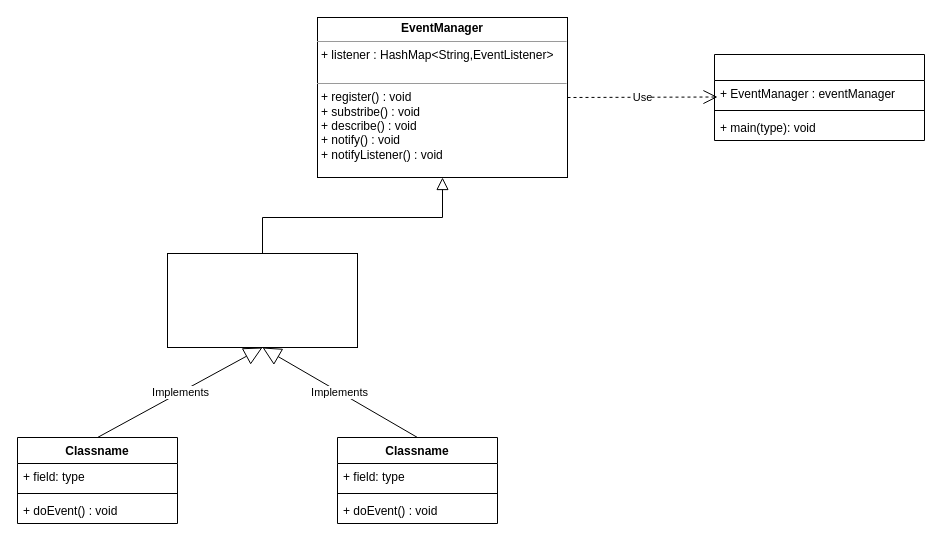
This 942x544 diagram has some shape labels left out. The box of each missing label's shape, as (x1, y1, x2, y2) in pixels:
<<Interface>> EventListener + doEvent() : void: (166, 252, 358, 348)
EventServer: (714, 54, 924, 140)
